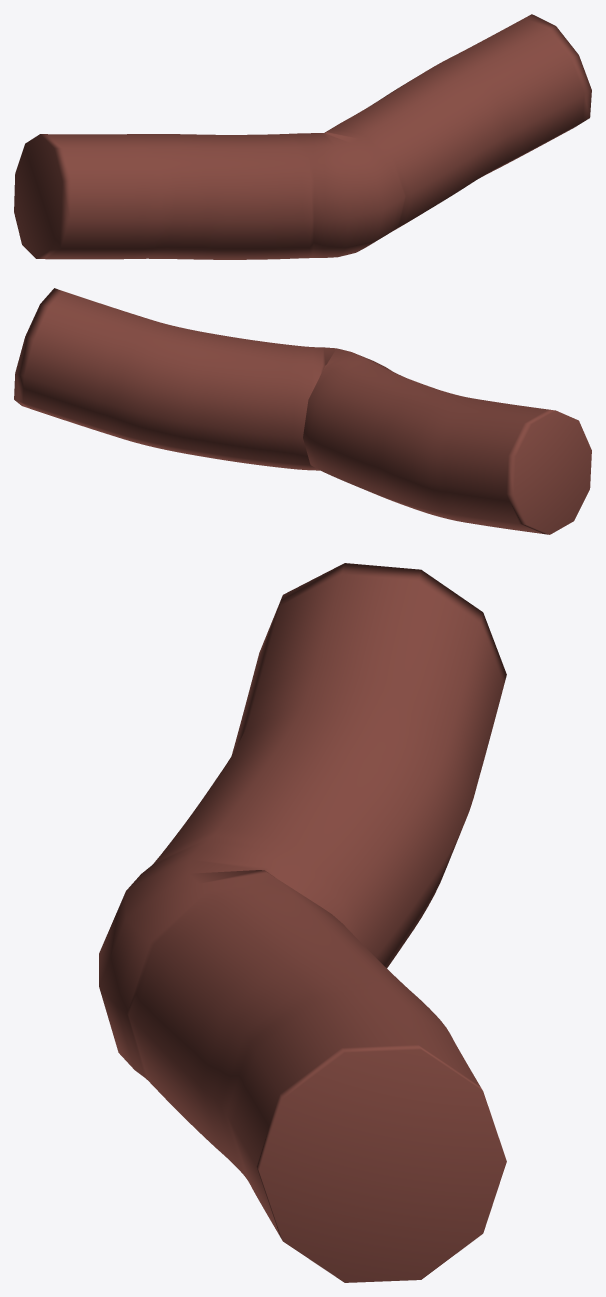
Rendered from 4HT-feminino.glb.
3 views of the same model, one above another, from view 1: azimuth 30°, elevation 25°; view 2: azimuth 150°, elevation 25°; view 3: azimuth 270°, elevation 25° (orthographic). The views are drawn at different scales.
Visible parts, largest first — view 1: mouth-relief; view 2: mouth-relief; view 3: mouth-relief.
Part boxes in pixels (bbox=[...]): mouth-relief: bbox=[14, 14, 591, 259]; mouth-relief: bbox=[14, 288, 591, 534]; mouth-relief: bbox=[99, 563, 506, 1282].
Bounding box in the file's own units: 0.00646 × 0.00159 × 0.00212.
